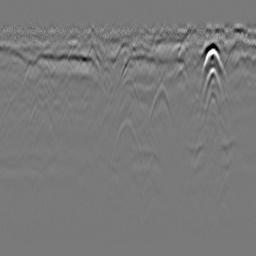cavity: (117, 75, 140, 107)
